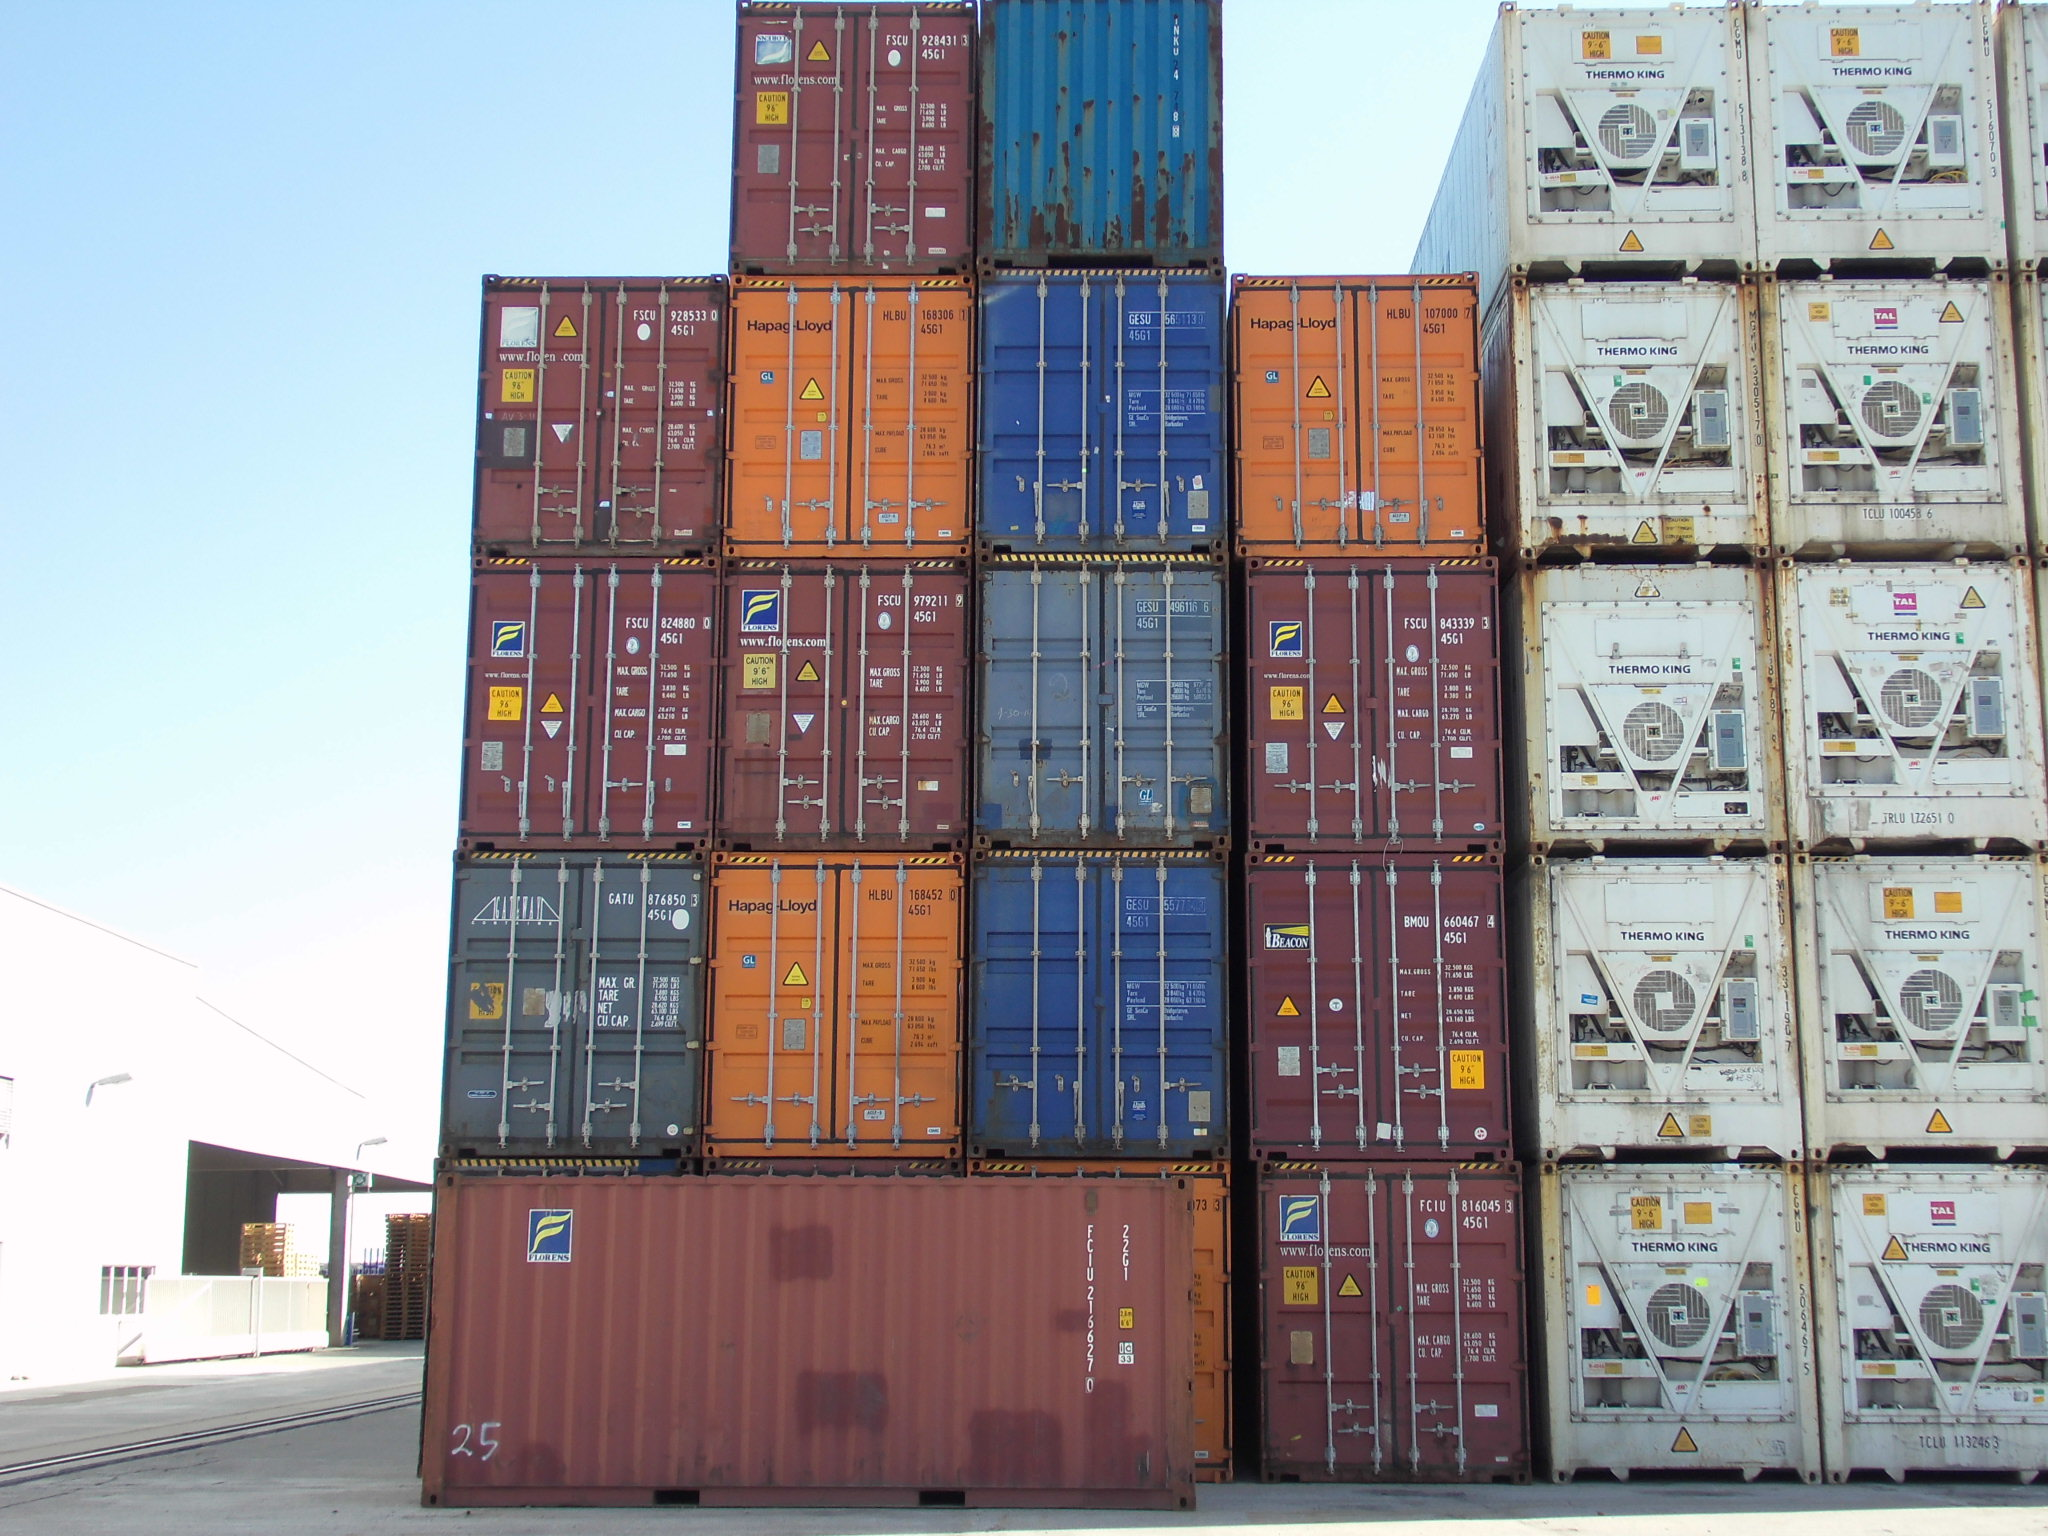container_door: (456, 854, 685, 1142), (726, 858, 955, 1147), (1263, 862, 1492, 1150), (1268, 1183, 1496, 1471), (987, 854, 1216, 1141), (742, 278, 964, 534), (992, 287, 1214, 544), (1253, 286, 1476, 541), (727, 573, 950, 828), (477, 563, 700, 818), (747, 8, 968, 265), (489, 278, 710, 532), (1263, 570, 1484, 824), (993, 574, 1214, 829)
container_no_door: (961, 1171, 1193, 1512), (993, 8, 1224, 265)
